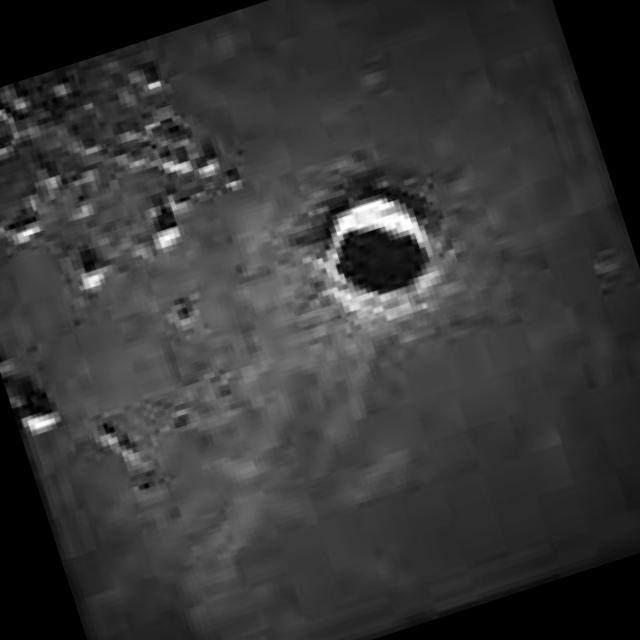crater: (314, 187, 444, 318)
